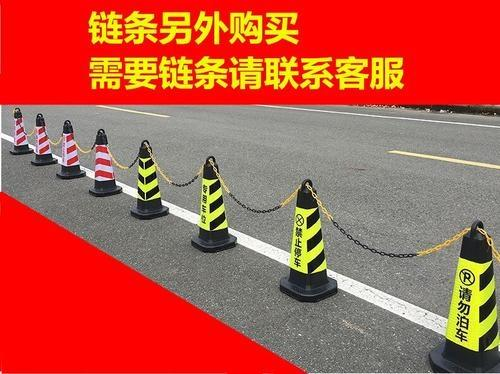cone_barrel: (428, 221, 498, 367), (274, 174, 339, 301), (185, 153, 237, 251), (127, 137, 169, 217), (87, 126, 122, 196), (54, 117, 84, 178), (29, 110, 54, 164), (8, 105, 31, 154)
